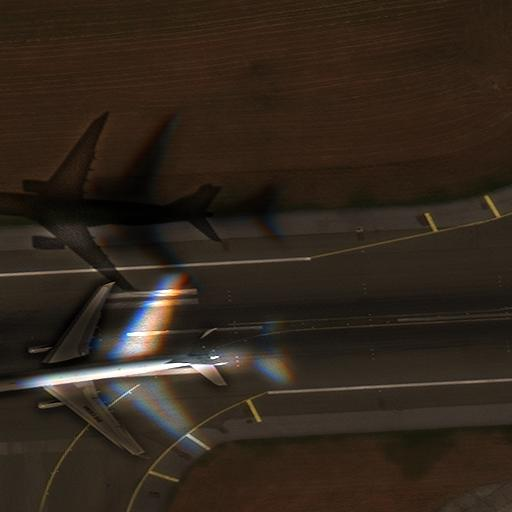Large Civil Transport: (0, 284, 221, 456)
